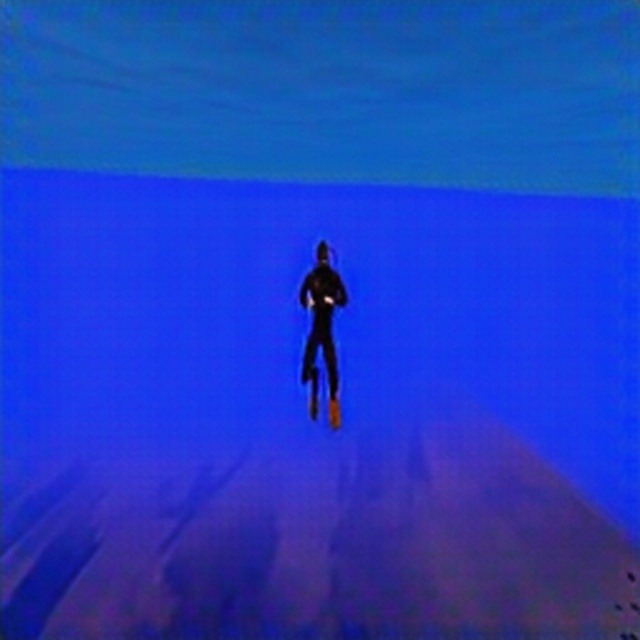diver: (295, 236, 350, 430)
